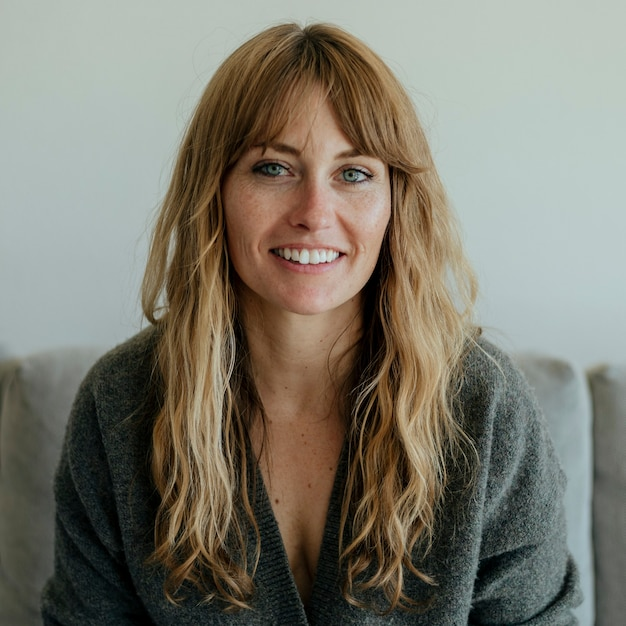young: (141, 14, 454, 357)
